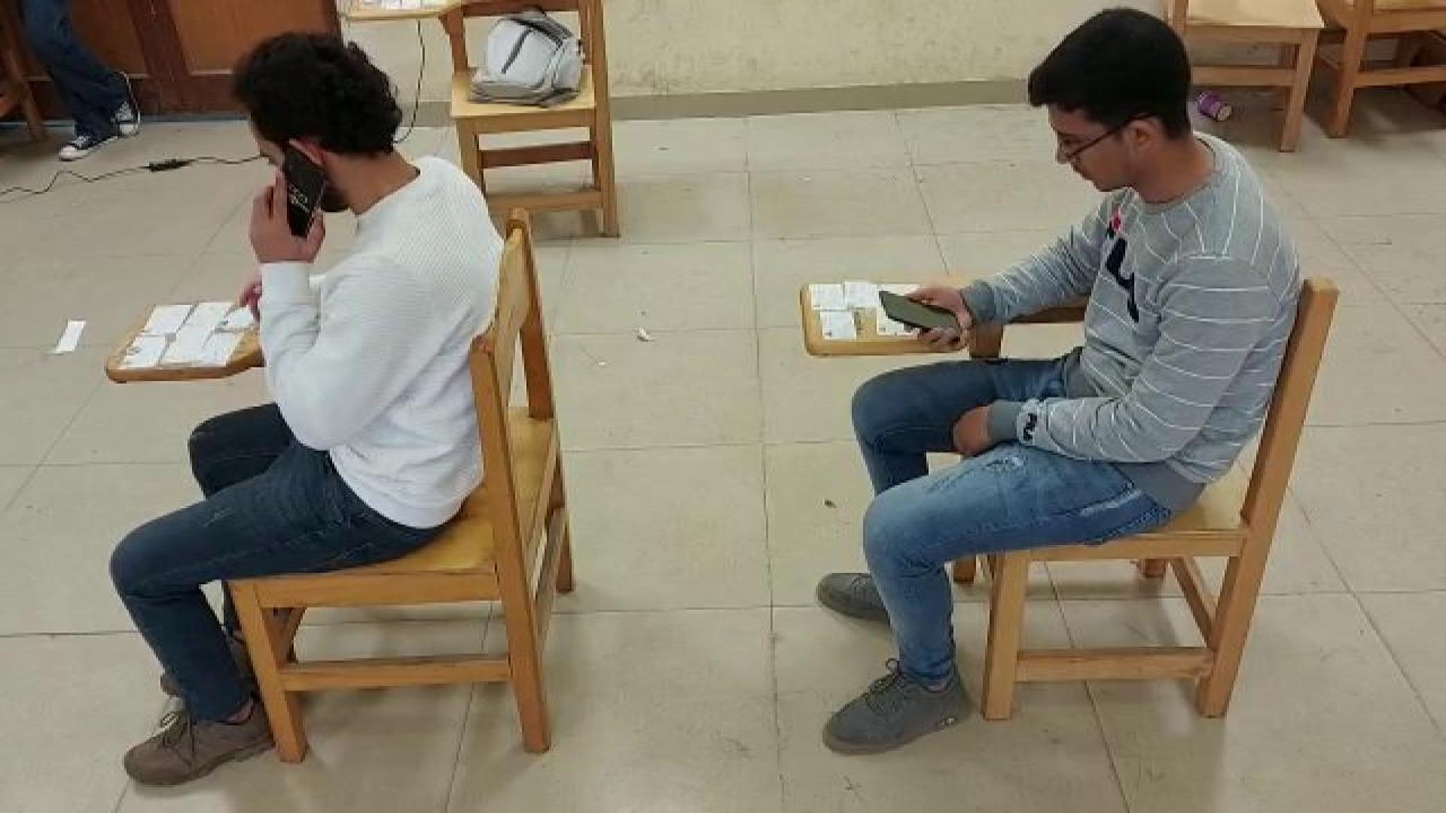phone: (267, 150, 323, 240), (879, 289, 962, 337)
